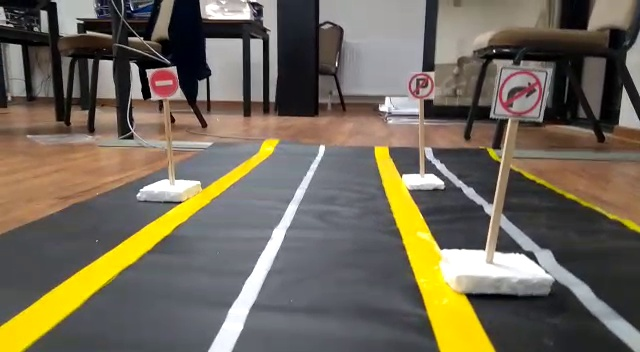girisi_olmayan_yol: (147, 67, 182, 98)
park_yapilmaz: (407, 71, 436, 99)
saga_donulmez: (499, 65, 542, 118)
